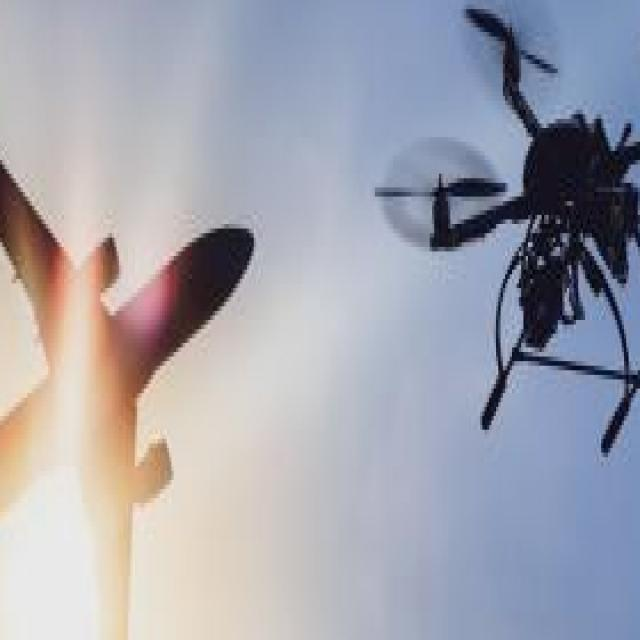drone: (349, 0, 640, 420)
